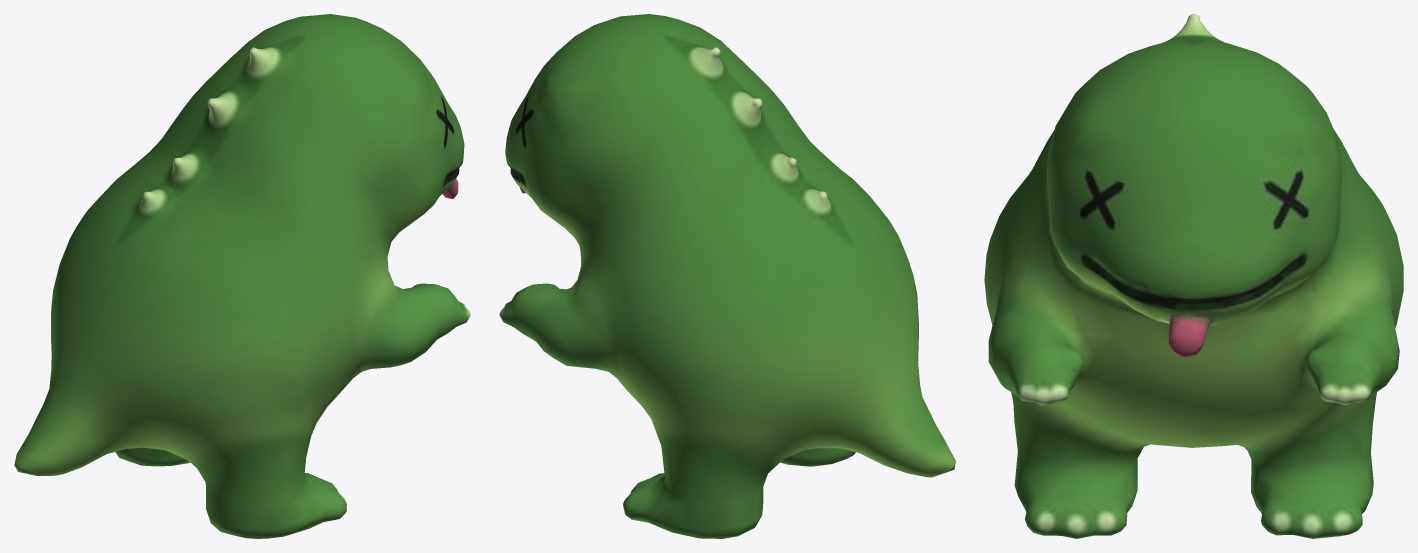
The model's file is dino-mascot.glb.
The picture shows the model from 3 angles, left to right: view 1: azimuth 30°, elevation 25°; view 2: azimuth 150°, elevation 25°; view 3: azimuth 270°, elevation 25°; orthographic projection. The views are drawn at different scales.
Visible parts, largest first — view 1: Dino-mascotBody; view 2: Dino-mascotBody; view 3: Dino-mascotBody.
Part boxes in pixels (left/top/right/bottom): Dino-mascotBody: left=14, top=14, right=470, bottom=538; Dino-mascotBody: left=499, top=14, right=955, bottom=538; Dino-mascotBody: left=984, top=14, right=1403, bottom=538.
Bounding box in the file's own units: 1.96 × 1.84 × 1.36.
Materials: 1 (1 with a texture image).
